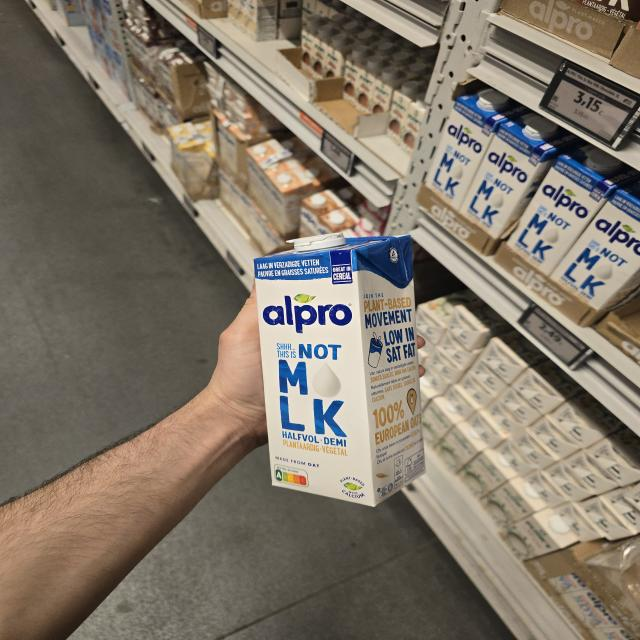Milk: (254, 232, 426, 506), (505, 143, 640, 277), (457, 112, 589, 239), (424, 87, 533, 211), (549, 179, 640, 311)
